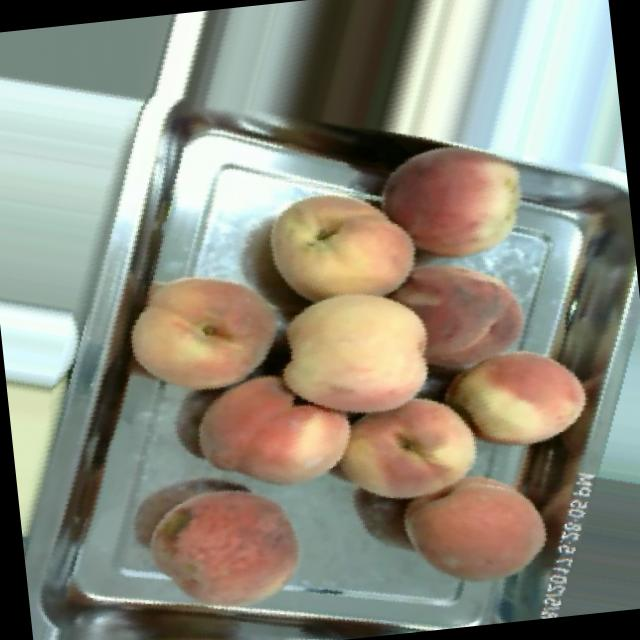Fruit: (97, 236, 307, 424), (116, 453, 326, 640), (377, 446, 572, 612), (256, 282, 459, 441), (239, 156, 439, 312), (418, 316, 608, 480), (352, 134, 554, 288), (306, 390, 508, 533), (172, 370, 356, 520)
